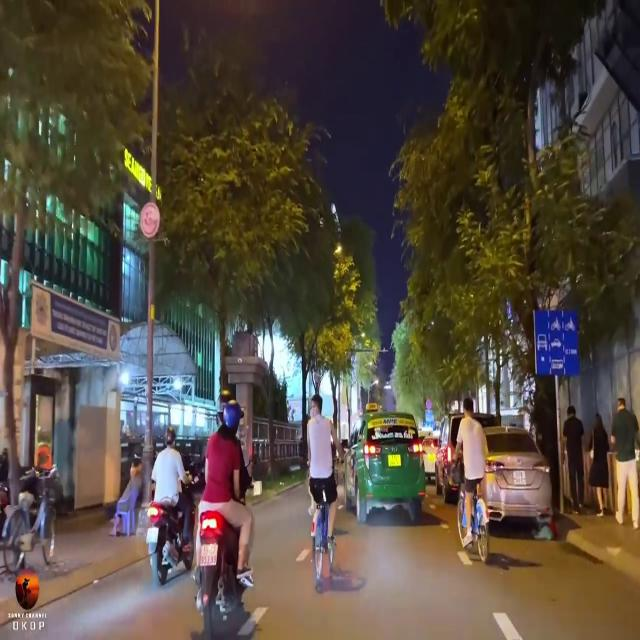bien_trang: (200, 542, 218, 568), (513, 467, 527, 485)
bien_vang: (388, 452, 402, 468)
